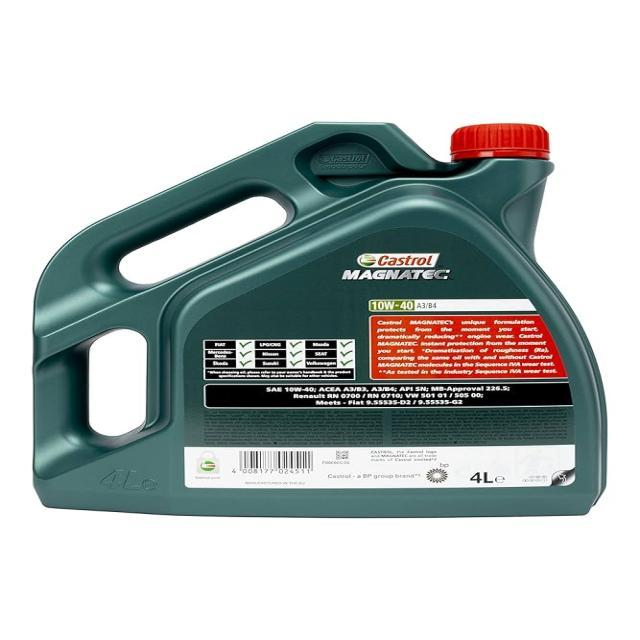motor_oil: (26, 110, 612, 537)
